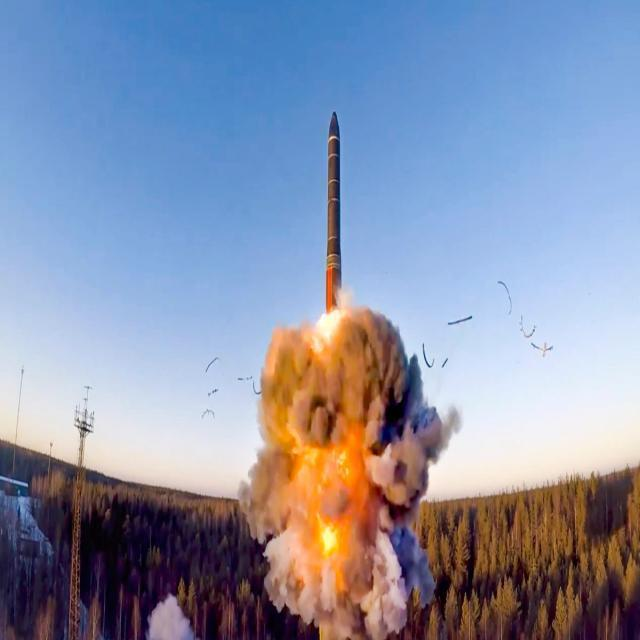Missile: (319, 95, 349, 311)
